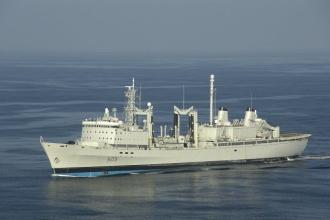warship: (38, 75, 315, 176)
